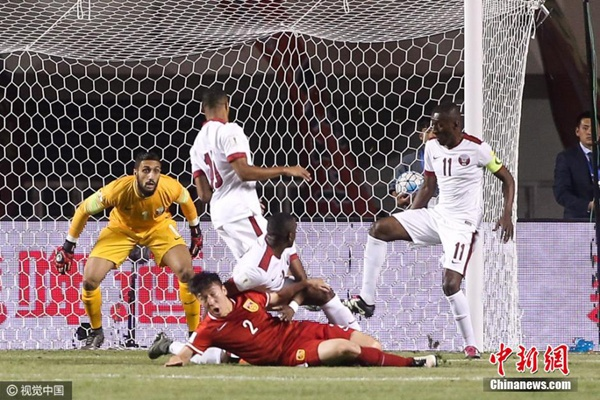falling: (151, 268, 454, 374)
